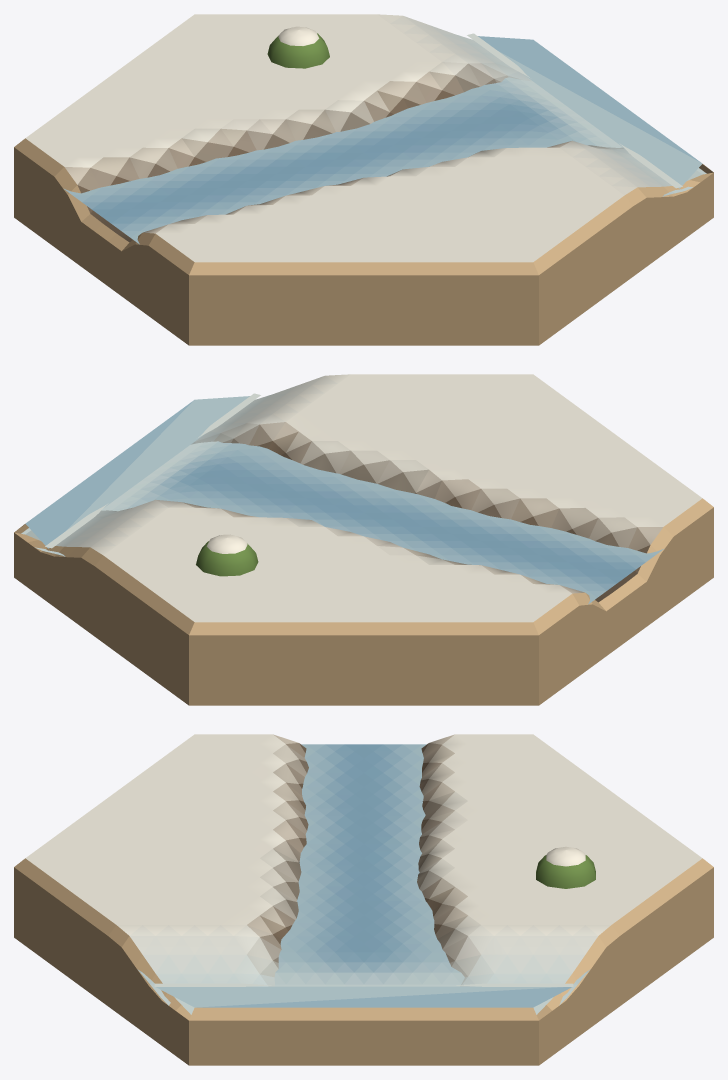
File: estuary_sea1_edge3_snow.fbx
The picture shows the model from 3 angles, top to bottom: view 1: azimuth 30°, elevation 25°; view 2: azimuth 150°, elevation 25°; view 3: azimuth 270°, elevation 25°; orthographic projection.
Visible parts, largest first — view 1: estuary_sea1_edge3_snow; view 2: estuary_sea1_edge3_snow; view 3: estuary_sea1_edge3_snow.
Part boxes in pixels (x1,y1,x2,y2): estuary_sea1_edge3_snow: (14,14,713,345); estuary_sea1_edge3_snow: (14,374,713,705); estuary_sea1_edge3_snow: (14,734,713,1065).
Bounding box in the file's own units: 1.73 × 0.331 × 2.
